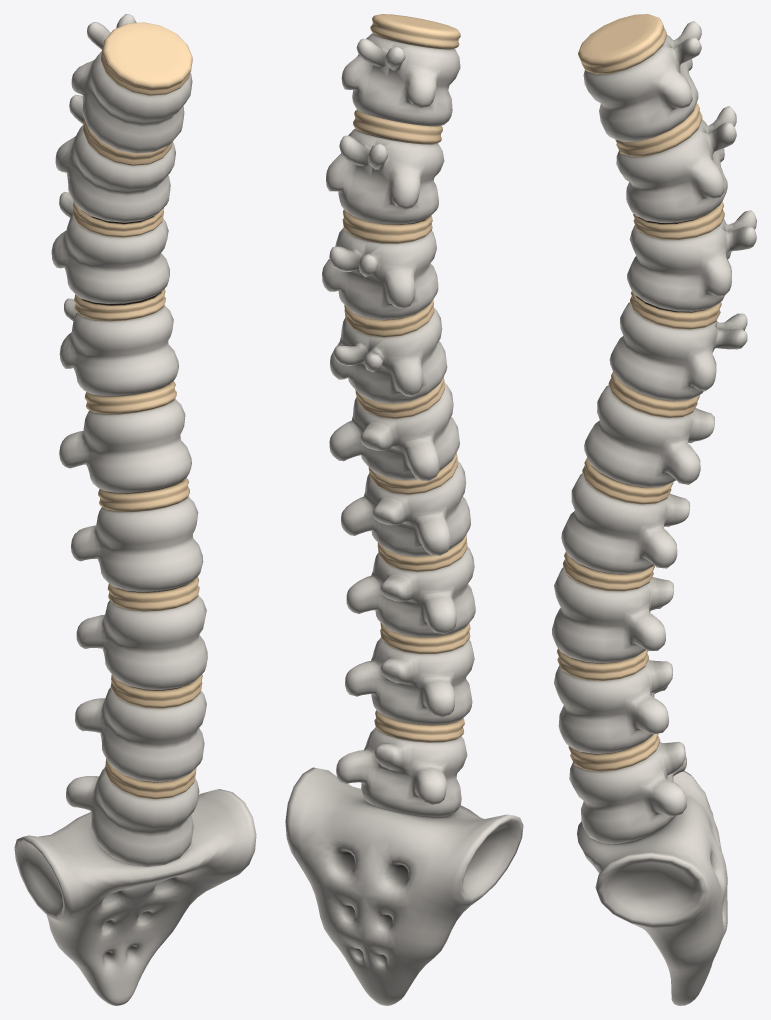
3 views of the same model, side by side, from view 1: azimuth 30°, elevation 25°; view 2: azimuth 150°, elevation 25°; view 3: azimuth 270°, elevation 25° (orthographic).
Visible parts, largest first — view 1: Spine_0, Spine.001_2, CoccYx_1, Spine.002_4; view 2: Spine_0, CoccYx_1, Spine.001_2, Spine.002_4; view 3: Spine_0, Spine.001_2, CoccYx_1, Spine.002_4.
Part boxes in pixels (left/top/right/bottom): Spine_0: left=59, top=381, right=207, bottom=866; Spine.001_2: left=51, top=94, right=178, bottom=396; CoccYx_1: left=14, top=789, right=256, bottom=1005; Spine.002_4: left=71, top=14, right=192, bottom=153; Spine_0: left=329, top=377, right=475, bottom=817; CoccYx_1: left=285, top=767, right=523, bottom=1005; Spine.001_2: left=322, top=110, right=447, bottom=403; Spine.002_4: left=341, top=14, right=460, bottom=126; Spine_0: left=552, top=372, right=714, bottom=843; Spine.001_2: left=609, top=103, right=756, bottom=400; CoccYx_1: left=577, top=771, right=727, bottom=1005; Spine.002_4: left=578, top=14, right=701, bottom=142.
Size of the model in its own units: 4.77 by 22.27 by 4.21.
1 material, 1 textured.
